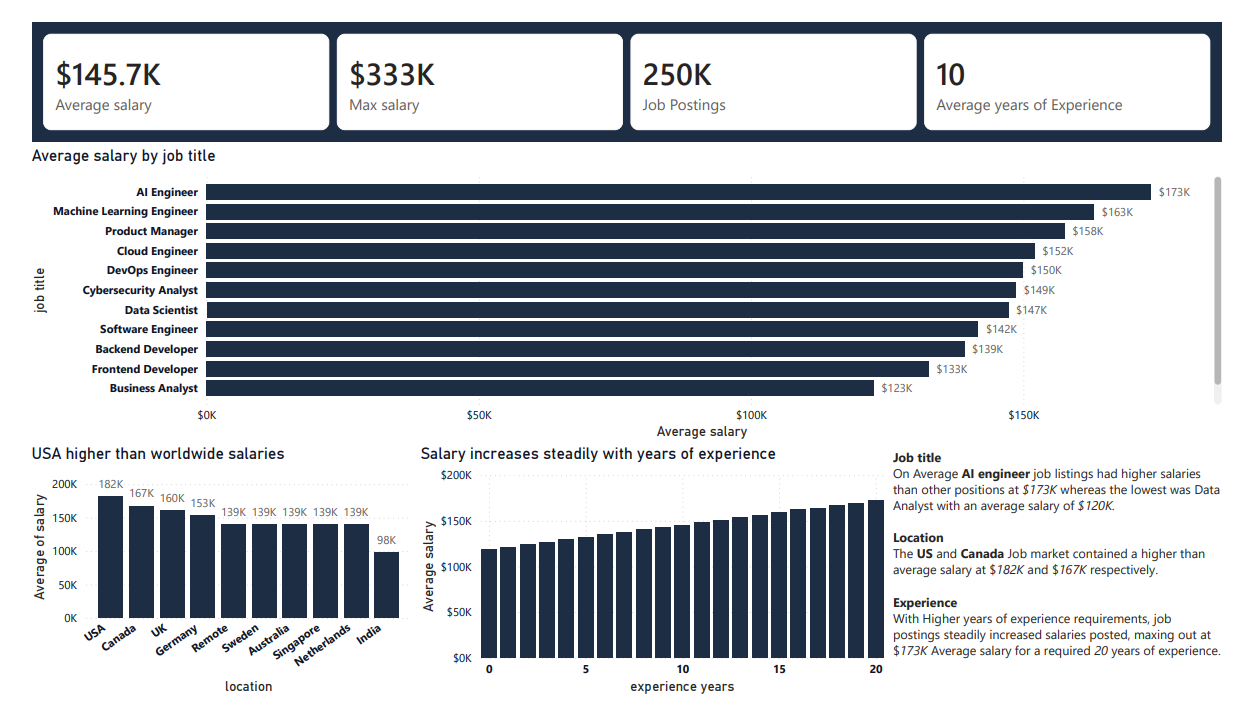

What the dashboard file says about the page in this screenshot:
{"tool":"powerbi","page":{"name":"Overview","canvas":[1280,720],"ordinal":0},"visuals":[{"type":"cardVisual","fields":{"Data":["Avg(cleaned_jobs_salary.salary)","Max(cleaned_jobs_salary.salary)1","CountNonNull(cleaned_jobs_salary.salary)2","Avg(cleaned_jobs_salary.experience_years)"]},"box":[10,0,1270,136],"z":0},{"type":"clusteredBarChart","title":"Average salary by job title","fields":{"Category":["cleaned_jobs_salary.job_title"],"Y":["Avg(cleaned_jobs_salary.salary)"]},"box":[10,136,1270,315],"z":2000},{"type":"clusteredColumnChart","title":"USA higher than worldwide salaries","fields":{"Y":["Avg(cleaned_jobs_salary.salary)"],"Category":["cleaned_jobs_salary.location"]},"box":[10,451,412,269],"z":3000},{"type":"clusteredColumnChart","title":"Salary increases steadily with years of experience","fields":{"Y":["Avg(cleaned_jobs_salary.salary)"],"Category":["cleaned_jobs_salary.experience_years"]},"box":[422,451,500,269],"z":4000},{"type":"textbox","box":[922,451,358,269],"z":4001}]}

Visuals, with their boxes in screenshot pixels (x1, y1, x2, y2), scaled from the page's 1280x720 canvas onto the 1245x717 screenshot:
cardVisual - Avg(cleaned_jobs_salary.salary) x Max(cleaned_jobs_salary.salary)1: rect(10, 0, 1244, 135)
"Average salary by job title" clusteredBarChart: rect(10, 135, 1244, 449)
"USA higher than worldwide salaries" clusteredColumnChart: rect(10, 449, 410, 716)
"Salary increases steadily with years of experience" clusteredColumnChart: rect(410, 449, 897, 716)
textbox: rect(897, 449, 1244, 716)
